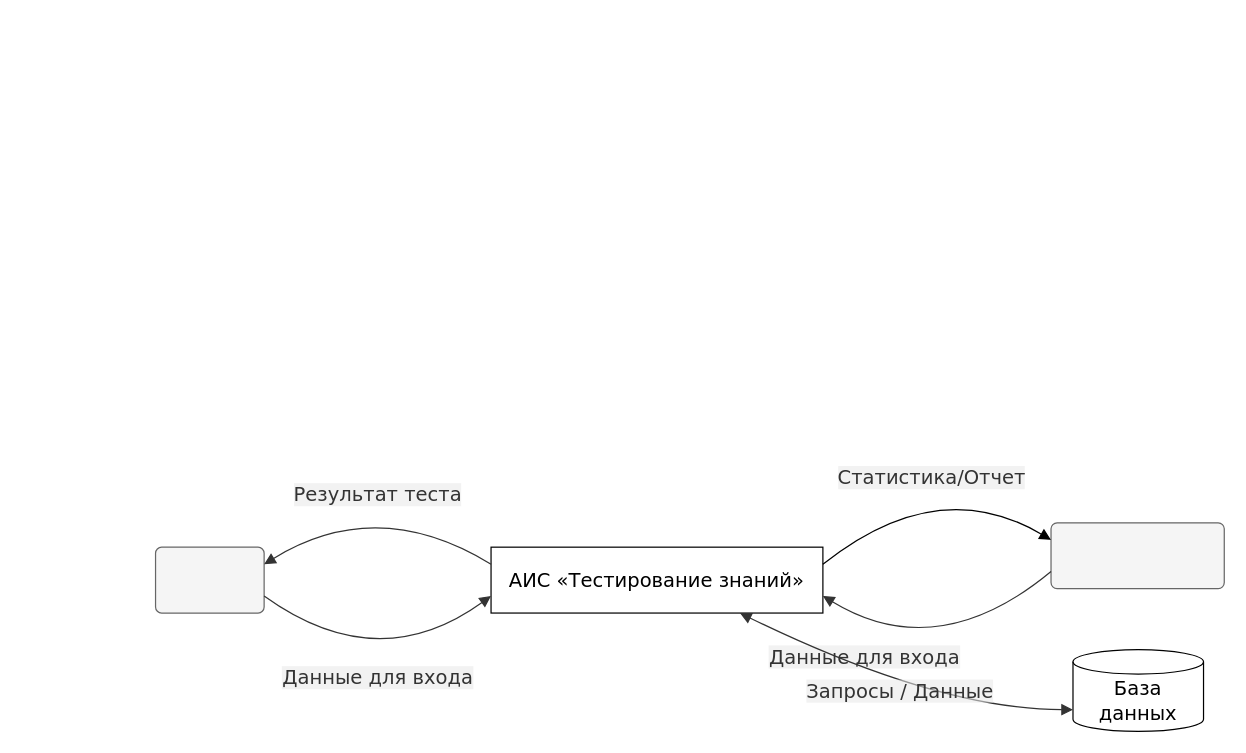
Image size: 1246x753. Some labels were removed from this diagram. Each missing label, with the centre of its shape:
Преподаватель: (1137,555)
Студент: (209,579)
